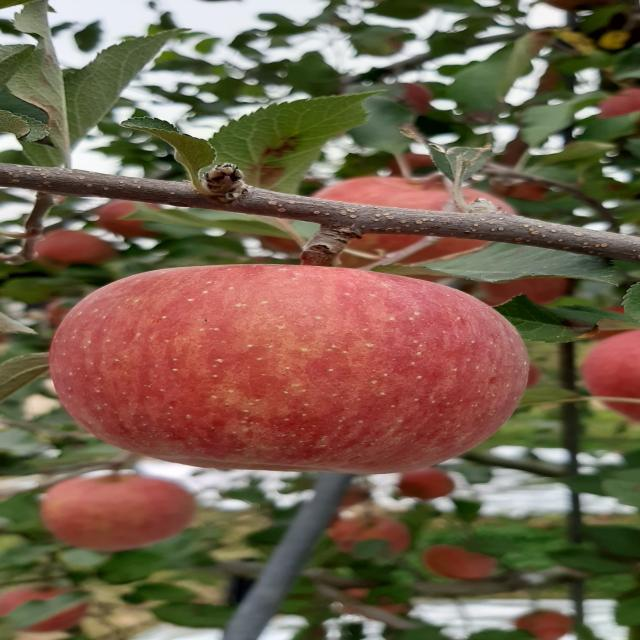fresh: (33, 257, 551, 486)
